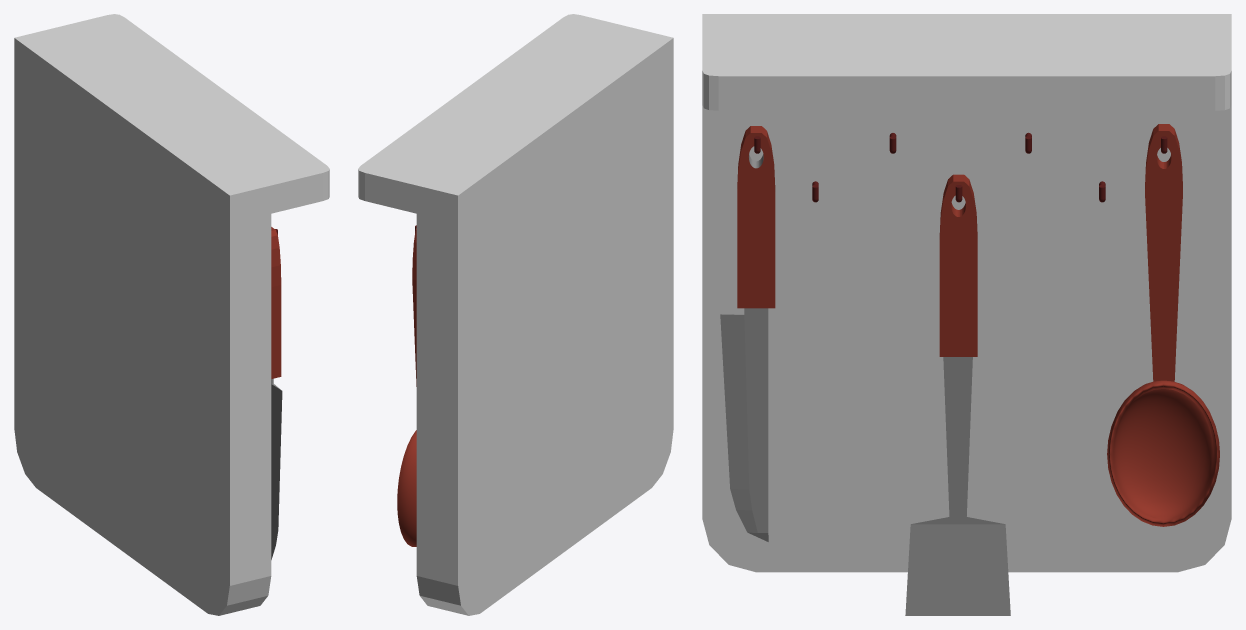
File: cookware stand.glb
3 renders of one model, left to right at view 1: azimuth 30°, elevation 25°; view 2: azimuth 150°, elevation 25°; view 3: azimuth 270°, elevation 25°, orthographic. The views are drawn at different scales.
Visible parts, largest first — view 1: Cube, Plane; view 2: Cube, Plane.004; view 3: Cube, Plane.004, Plane.002, Plane, Cylinder.
Boxes of the visible parts, x1=… form: Cube: x1=14, y1=14, x2=329, y2=615; Plane: x1=271, y1=227, x2=282, y2=559; Cube: x1=358, y1=14, x2=673, y2=615; Plane.004: x1=397, y1=228, x2=416, y2=546; Cube: x1=702, y1=14, x2=1231, y2=572; Plane.004: x1=1107, y1=124, x2=1219, y2=526; Plane.002: x1=905, y1=174, x2=1010, y2=615; Plane: x1=720, y1=126, x2=775, y2=541; Cylinder: x1=754, y1=132, x2=1167, y2=202.
Bounding box in the file's own units: 0.5 × 2.1 × 1.8.
